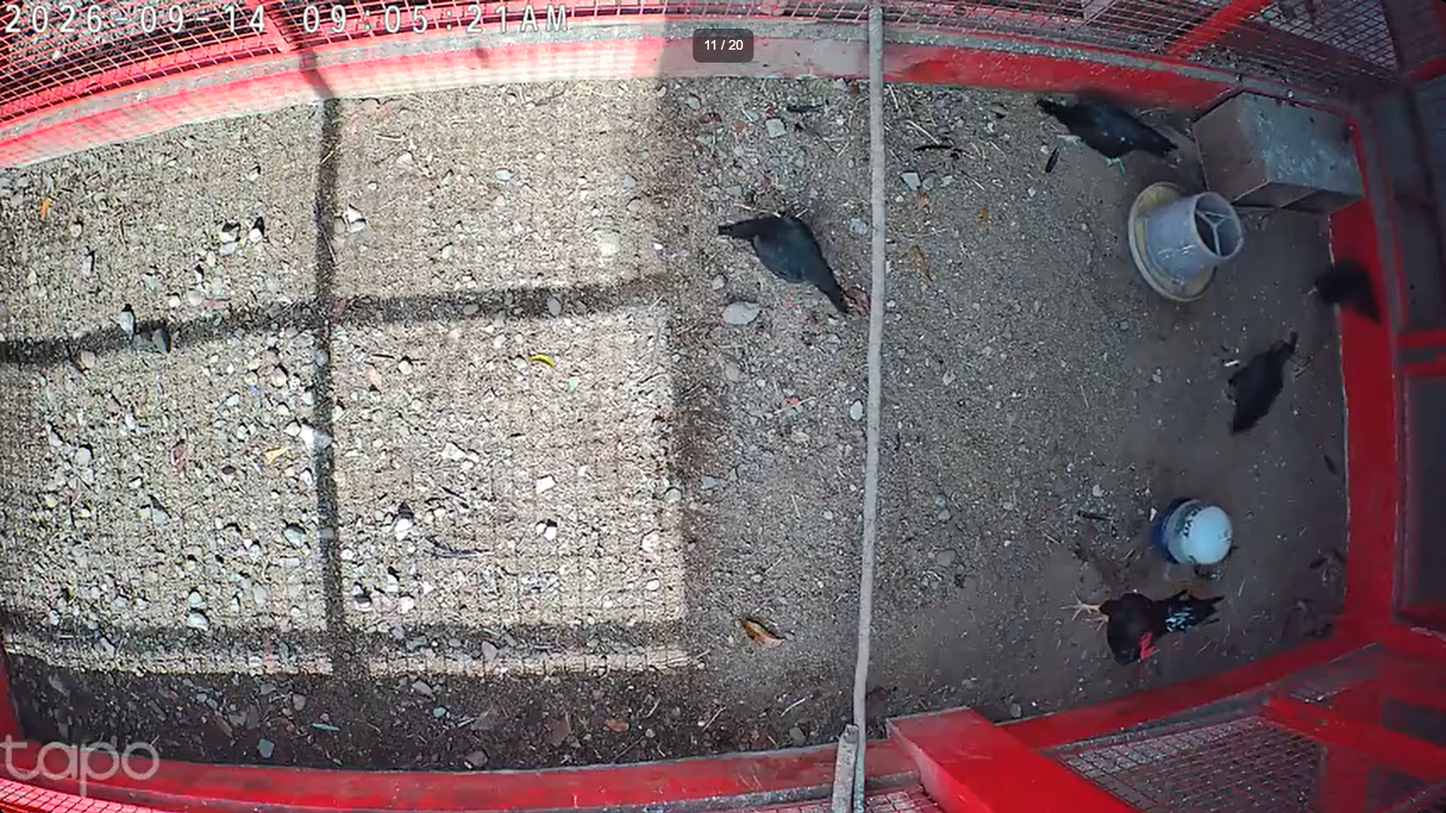Chicken: (716, 214, 850, 316)
Rooster: (1055, 582, 1225, 666)
